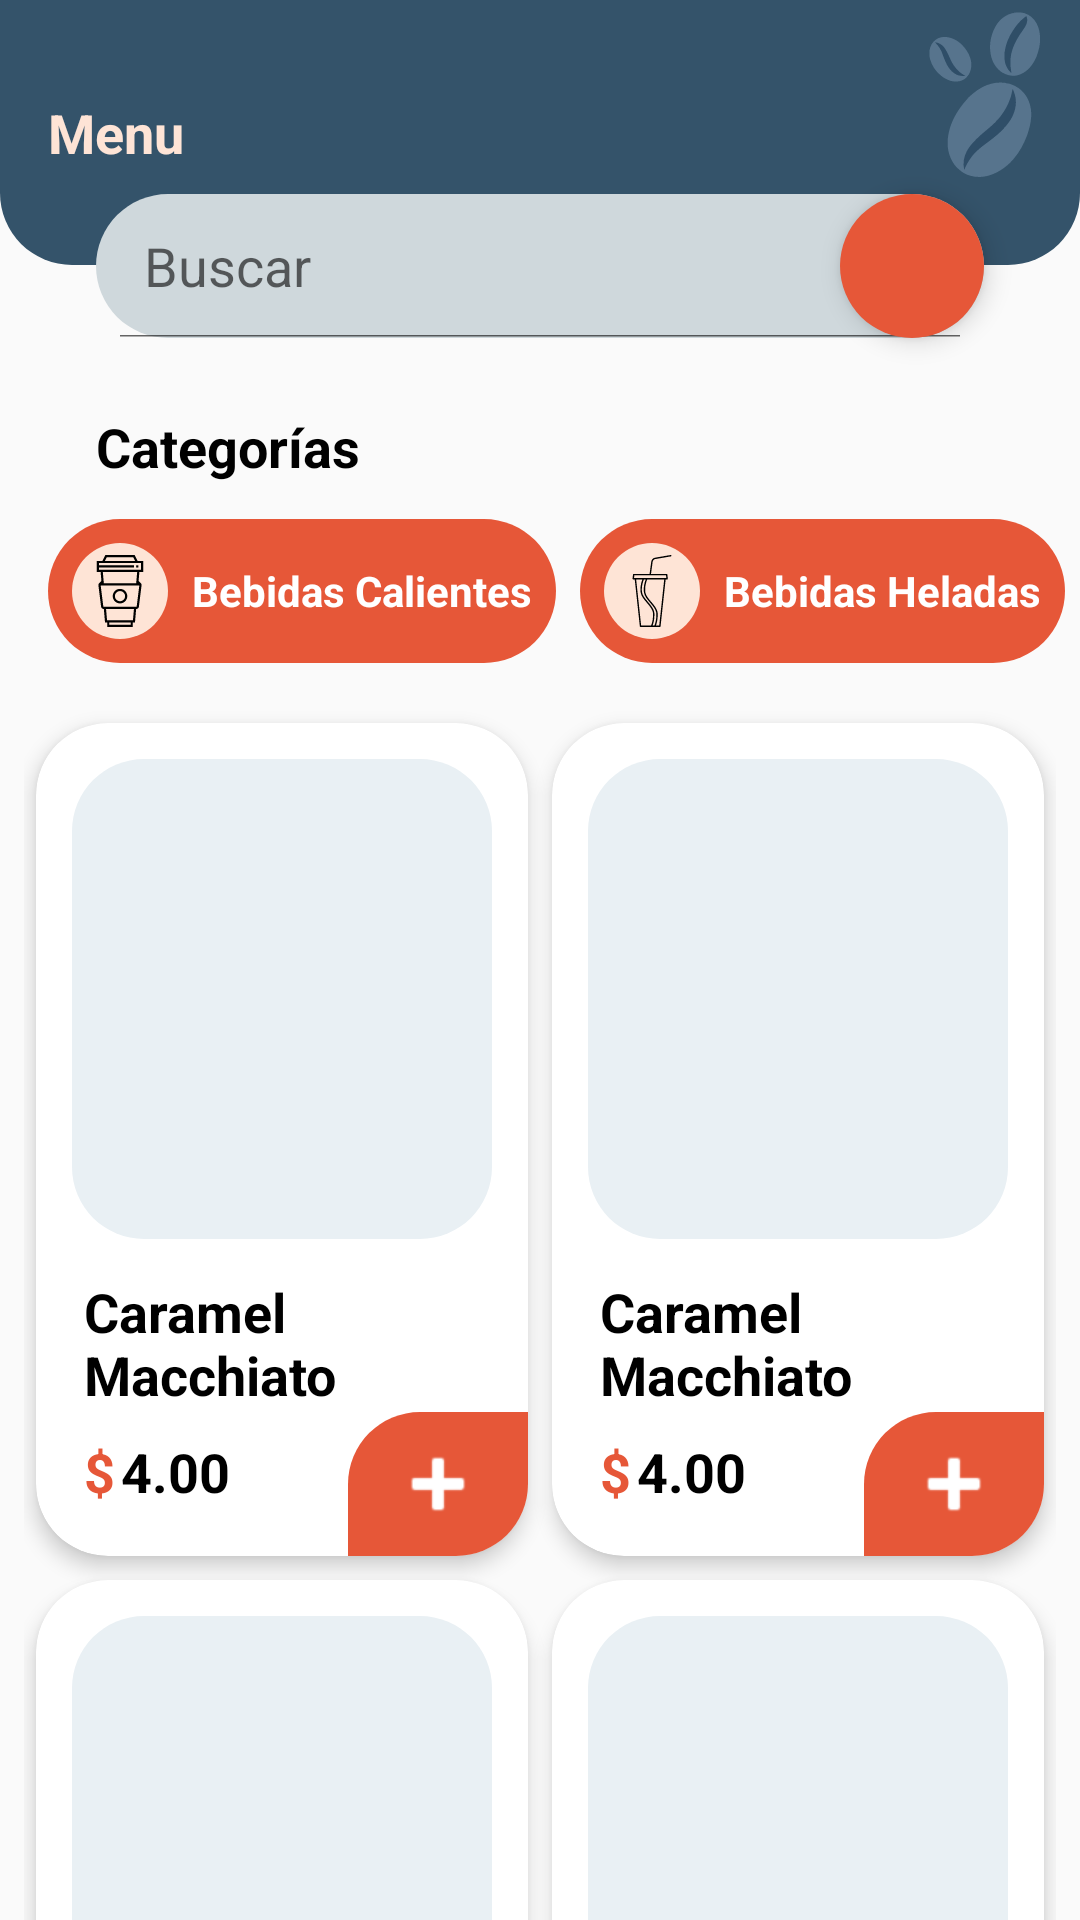

Named icons in this screenshot (1080 x 1920) and their bounding boxes, region(x1, y1, x2, y2):
Agregar al carrito: region(348, 1412, 528, 1556), region(864, 1412, 1044, 1556)
cold drink: region(604, 543, 700, 639)
hot drink: region(72, 543, 168, 639)
